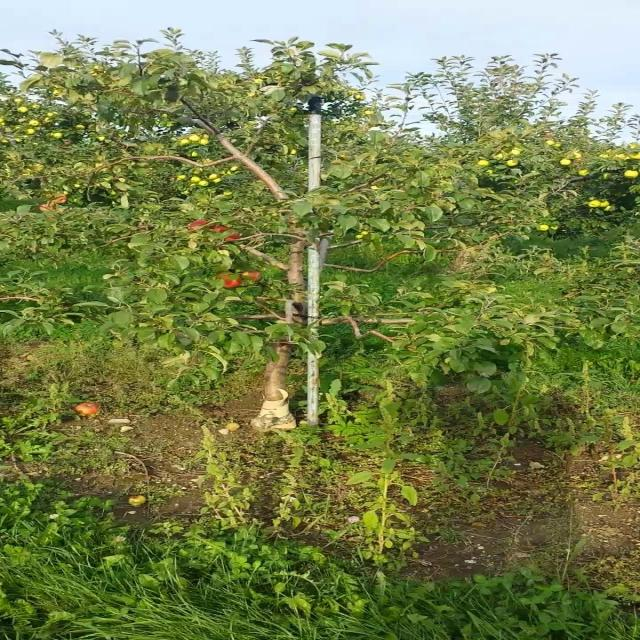apple: (216, 271, 242, 287), (187, 218, 210, 230), (239, 270, 260, 280), (36, 202, 54, 212), (50, 194, 66, 204), (210, 224, 228, 232), (224, 234, 240, 241)
